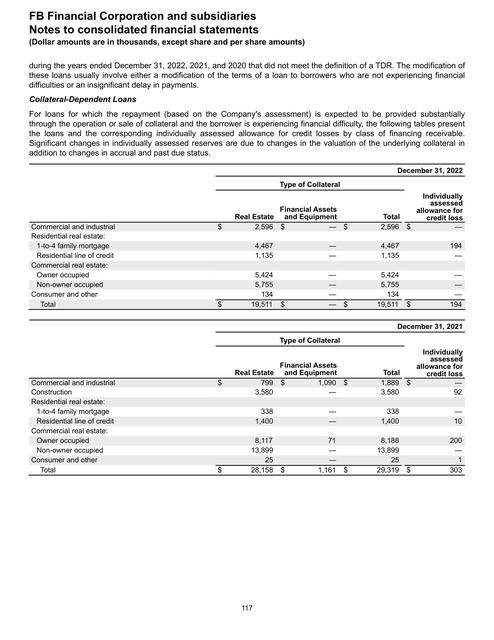box: (28, 318, 467, 479), (27, 162, 467, 313)
